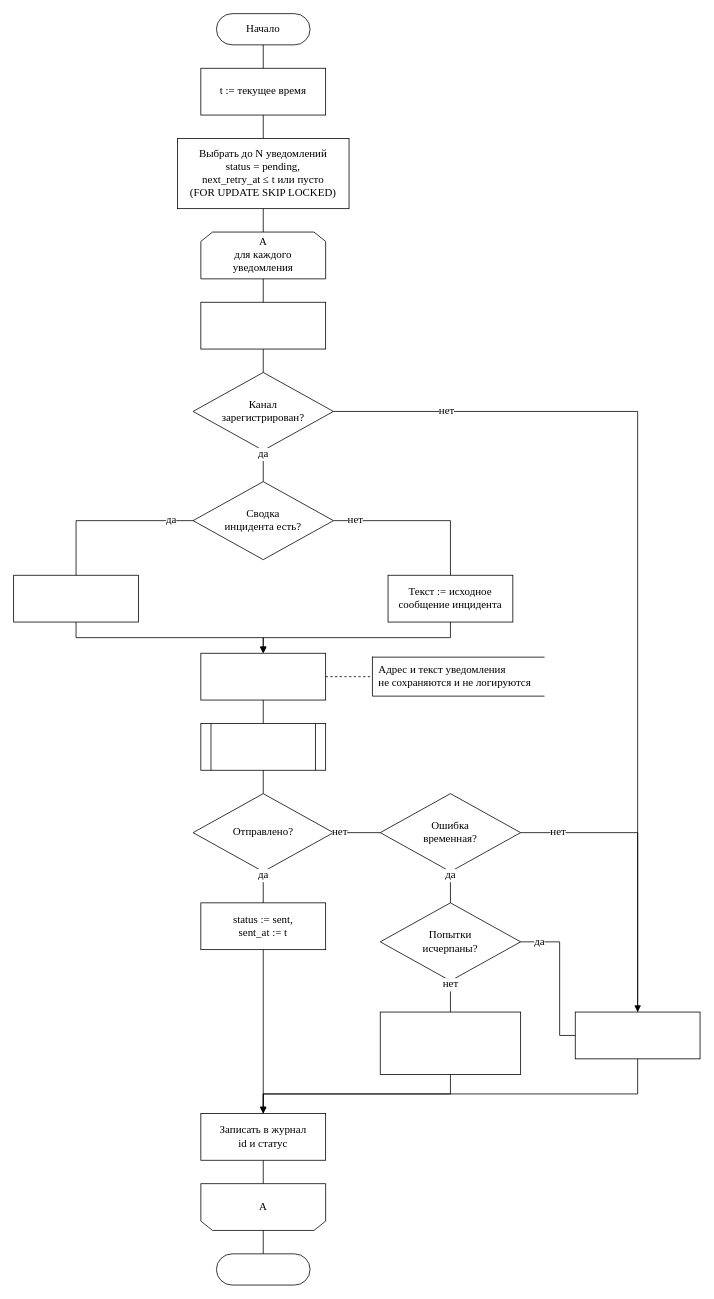
The diagram is 714 pixels wide and 1299 high, and some of its shapes have lost their labels. The centre of each missing label's shape, as x and y in pixels:
"attempts := attempts + 1" belongs at point 263,325.
"status := failed, записать last_error" belongs at point 637,1035.
"status := pending, next_retry_at := t + задержка (1, 5, 30 мин)" belongs at point 450,1042.
"Конец" belongs at point 263,1269.
"Отправить по каналу" belongs at point 263,746.
"Получить адрес получателя" belongs at point 263,676.
"Текст := сводка из llm_summaries" belongs at point 75,598.
